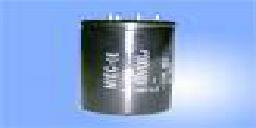Electrolytic-Capacitor: (75, 10, 178, 122)
